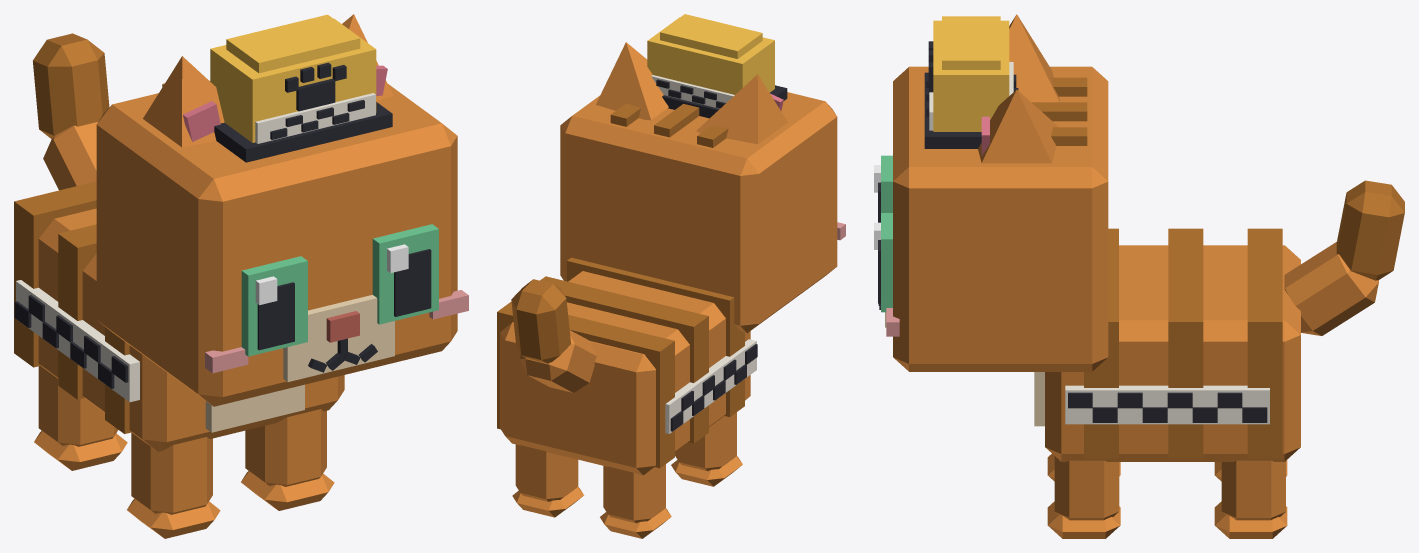
File: CatCafe_Cat_Taxi.glb
3 views of the same model, side by side, from view 1: azimuth 30°, elevation 25°; view 2: azimuth 150°, elevation 25°; view 3: azimuth 270°, elevation 25° (orthographic). The views are drawn at different scales.
Visible parts, largest first — view 1: CatCafe_Cat_Taxi_Head, CatCafe_Cat_Taxi_Body, CatCafe_Cat_Taxi_Prop, CatCafe_Cat_Taxi_Tail, CatCafe_Cat_Taxi_LegF2, CatCafe_Cat_Taxi_LegF1, CatCafe_Cat_Taxi_Eye2, CatCafe_Cat_Taxi_Eye1, CatCafe_Cat_Taxi_LegB2, CatCafe_Cat_Taxi_EarR, CatCafe_Cat_Taxi_EarL; view 2: CatCafe_Cat_Taxi_Head, CatCafe_Cat_Taxi_Body, CatCafe_Cat_Taxi_Prop, CatCafe_Cat_Taxi_Tail, CatCafe_Cat_Taxi_LegB2, CatCafe_Cat_Taxi_LegB1, CatCafe_Cat_Taxi_EarR, CatCafe_Cat_Taxi_LegF2, CatCafe_Cat_Taxi_EarL; view 3: CatCafe_Cat_Taxi_Head, CatCafe_Cat_Taxi_Body, CatCafe_Cat_Taxi_Tail, CatCafe_Cat_Taxi_Prop, CatCafe_Cat_Taxi_LegF1, CatCafe_Cat_Taxi_LegB1, CatCafe_Cat_Taxi_EarL, CatCafe_Cat_Taxi_EarR, CatCafe_Cat_Taxi_Eye1, CatCafe_Cat_Taxi_Eye2.
Part boxes in pixels (x1,y1,x2,y2): CatCafe_Cat_Taxi_Head: [96, 80, 468, 406]; CatCafe_Cat_Taxi_Body: [14, 181, 344, 451]; CatCafe_Cat_Taxi_Prop: [210, 14, 392, 162]; CatCafe_Cat_Taxi_Tail: [33, 33, 109, 190]; CatCafe_Cat_Taxi_LegF2: [127, 432, 220, 538]; CatCafe_Cat_Taxi_LegF1: [241, 409, 334, 510]; CatCafe_Cat_Taxi_Eye2: [241, 256, 307, 356]; CatCafe_Cat_Taxi_Eye1: [372, 224, 438, 324]; CatCafe_Cat_Taxi_LegB2: [34, 366, 127, 470]; CatCafe_Cat_Taxi_EarR: [143, 56, 224, 147]; CatCafe_Cat_Taxi_EarL: [342, 14, 393, 100]; CatCafe_Cat_Taxi_Head: [560, 92, 845, 333]; CatCafe_Cat_Taxi_Body: [497, 257, 757, 475]; CatCafe_Cat_Taxi_Prop: [647, 14, 787, 118]; CatCafe_Cat_Taxi_Tail: [511, 279, 596, 392]; CatCafe_Cat_Taxi_LegB2: [600, 464, 671, 538]; CatCafe_Cat_Taxi_LegB1: [512, 444, 583, 517]; CatCafe_Cat_Taxi_EarR: [696, 74, 787, 144]; CatCafe_Cat_Taxi_LegF2: [671, 412, 742, 486]; CatCafe_Cat_Taxi_EarL: [596, 42, 668, 120]; CatCafe_Cat_Taxi_Head: [878, 66, 1108, 371]; CatCafe_Cat_Taxi_Body: [1034, 228, 1300, 461]; CatCafe_Cat_Taxi_Tail: [1284, 180, 1404, 335]; CatCafe_Cat_Taxi_Prop: [924, 16, 1018, 148]; CatCafe_Cat_Taxi_LegF1: [1047, 456, 1120, 538]; CatCafe_Cat_Taxi_LegB1: [1214, 460, 1287, 538]; CatCafe_Cat_Taxi_EarL: [978, 89, 1058, 163]; CatCafe_Cat_Taxi_EarR: [1009, 14, 1059, 102]; CatCafe_Cat_Taxi_Eye1: [874, 213, 892, 312]; CatCafe_Cat_Taxi_Eye2: [874, 155, 892, 222].
Bounding box in the file's own units: 1 × 1.91 × 1.97.
1 material, 1 textured.
